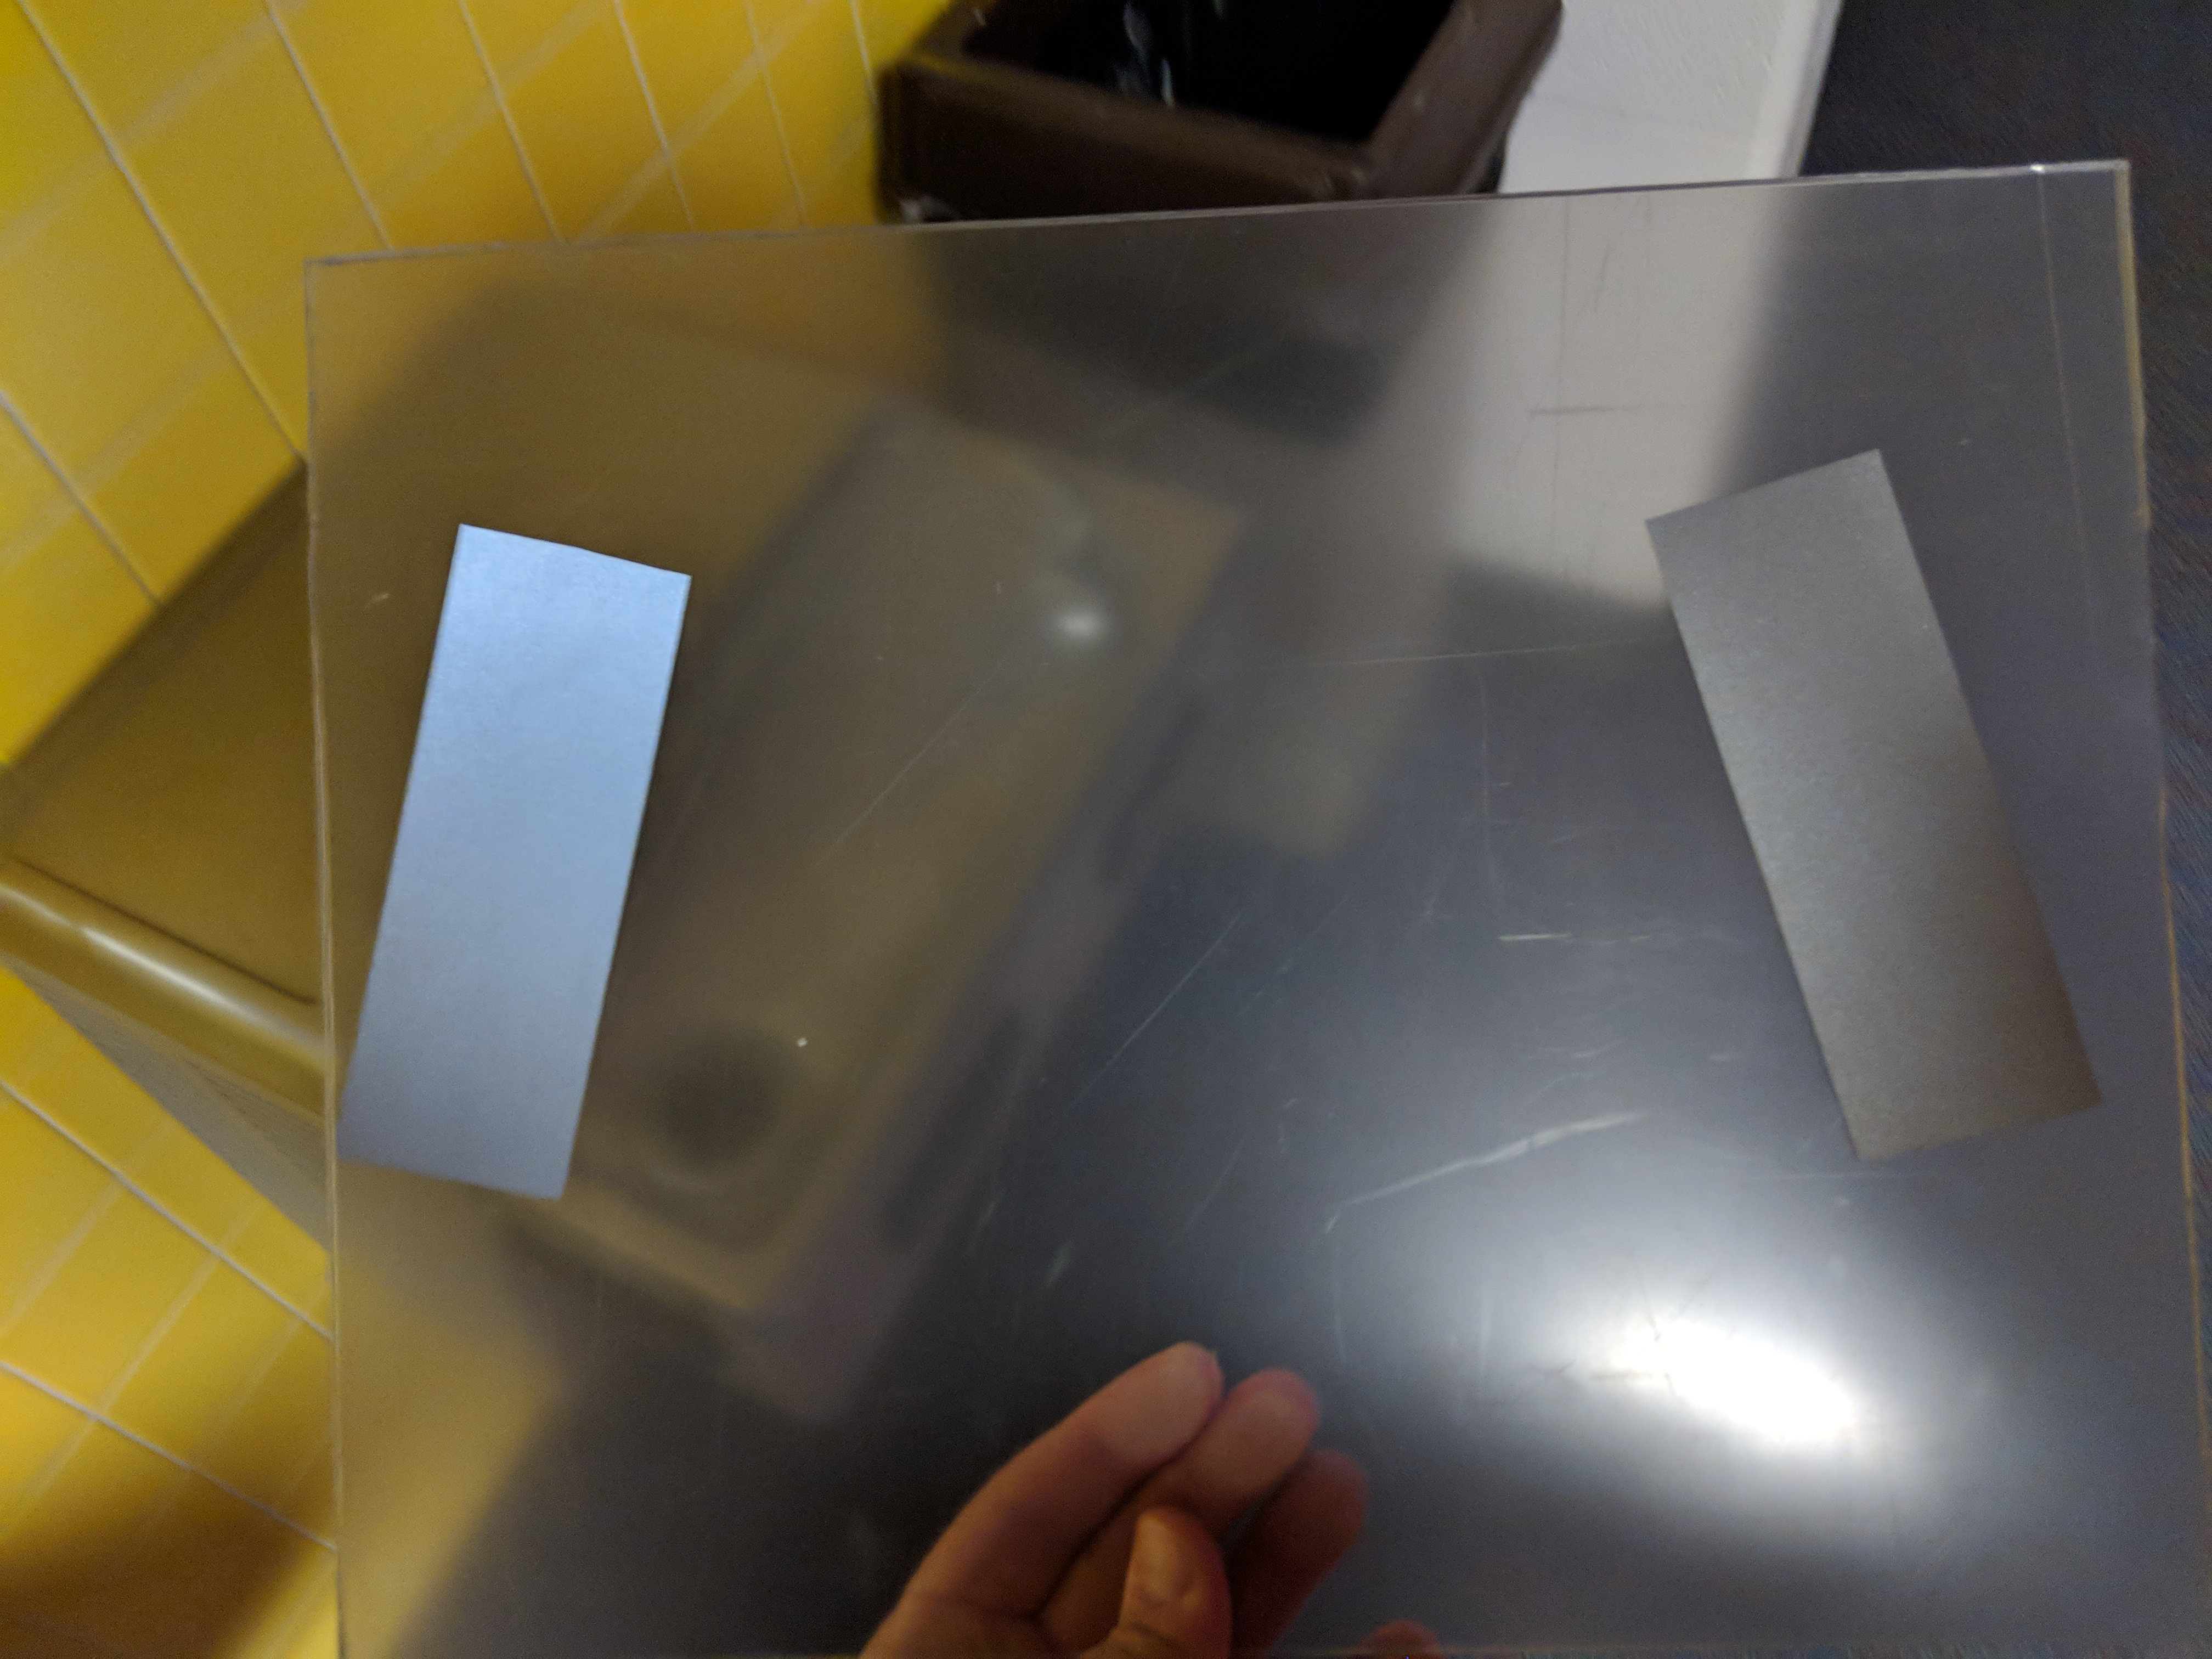vision_target: (319, 439, 2111, 1222)
